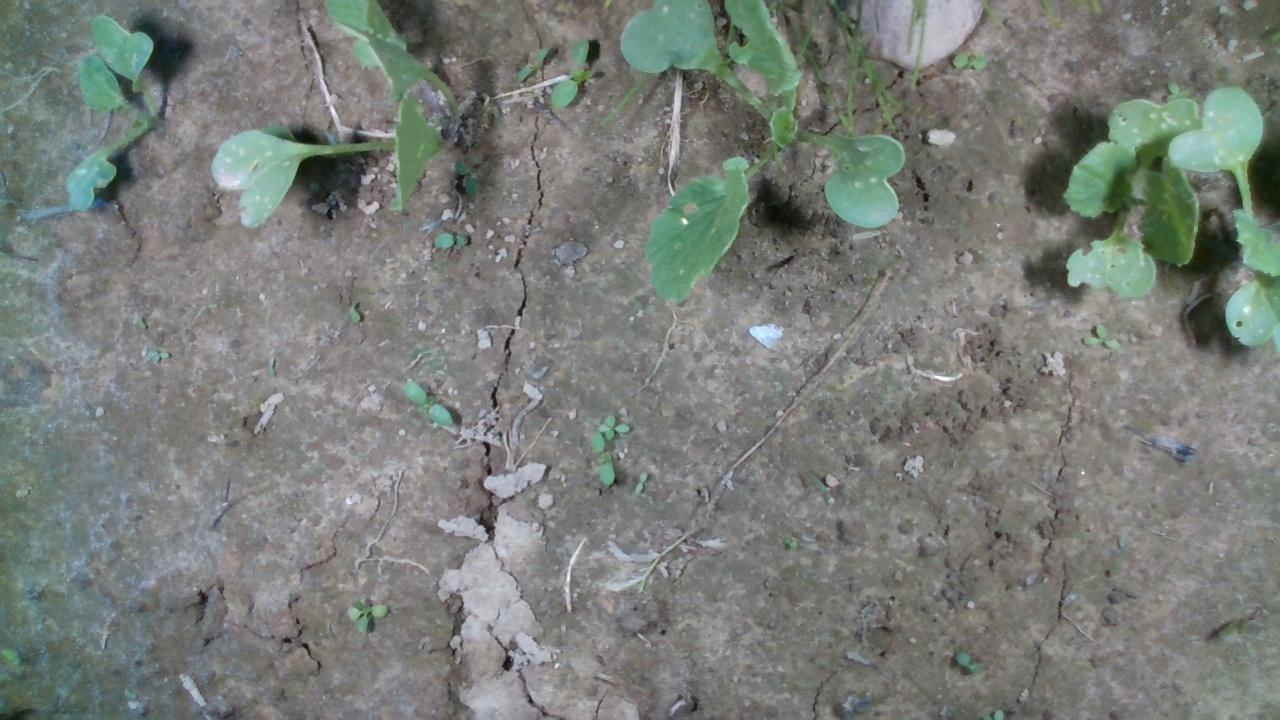weed: (549, 37, 593, 108), (399, 379, 453, 426), (344, 599, 389, 633), (511, 42, 551, 80), (1078, 321, 1120, 349), (428, 227, 469, 249), (953, 648, 985, 673), (344, 303, 365, 325), (632, 470, 648, 495), (145, 348, 171, 363), (780, 535, 799, 549)
